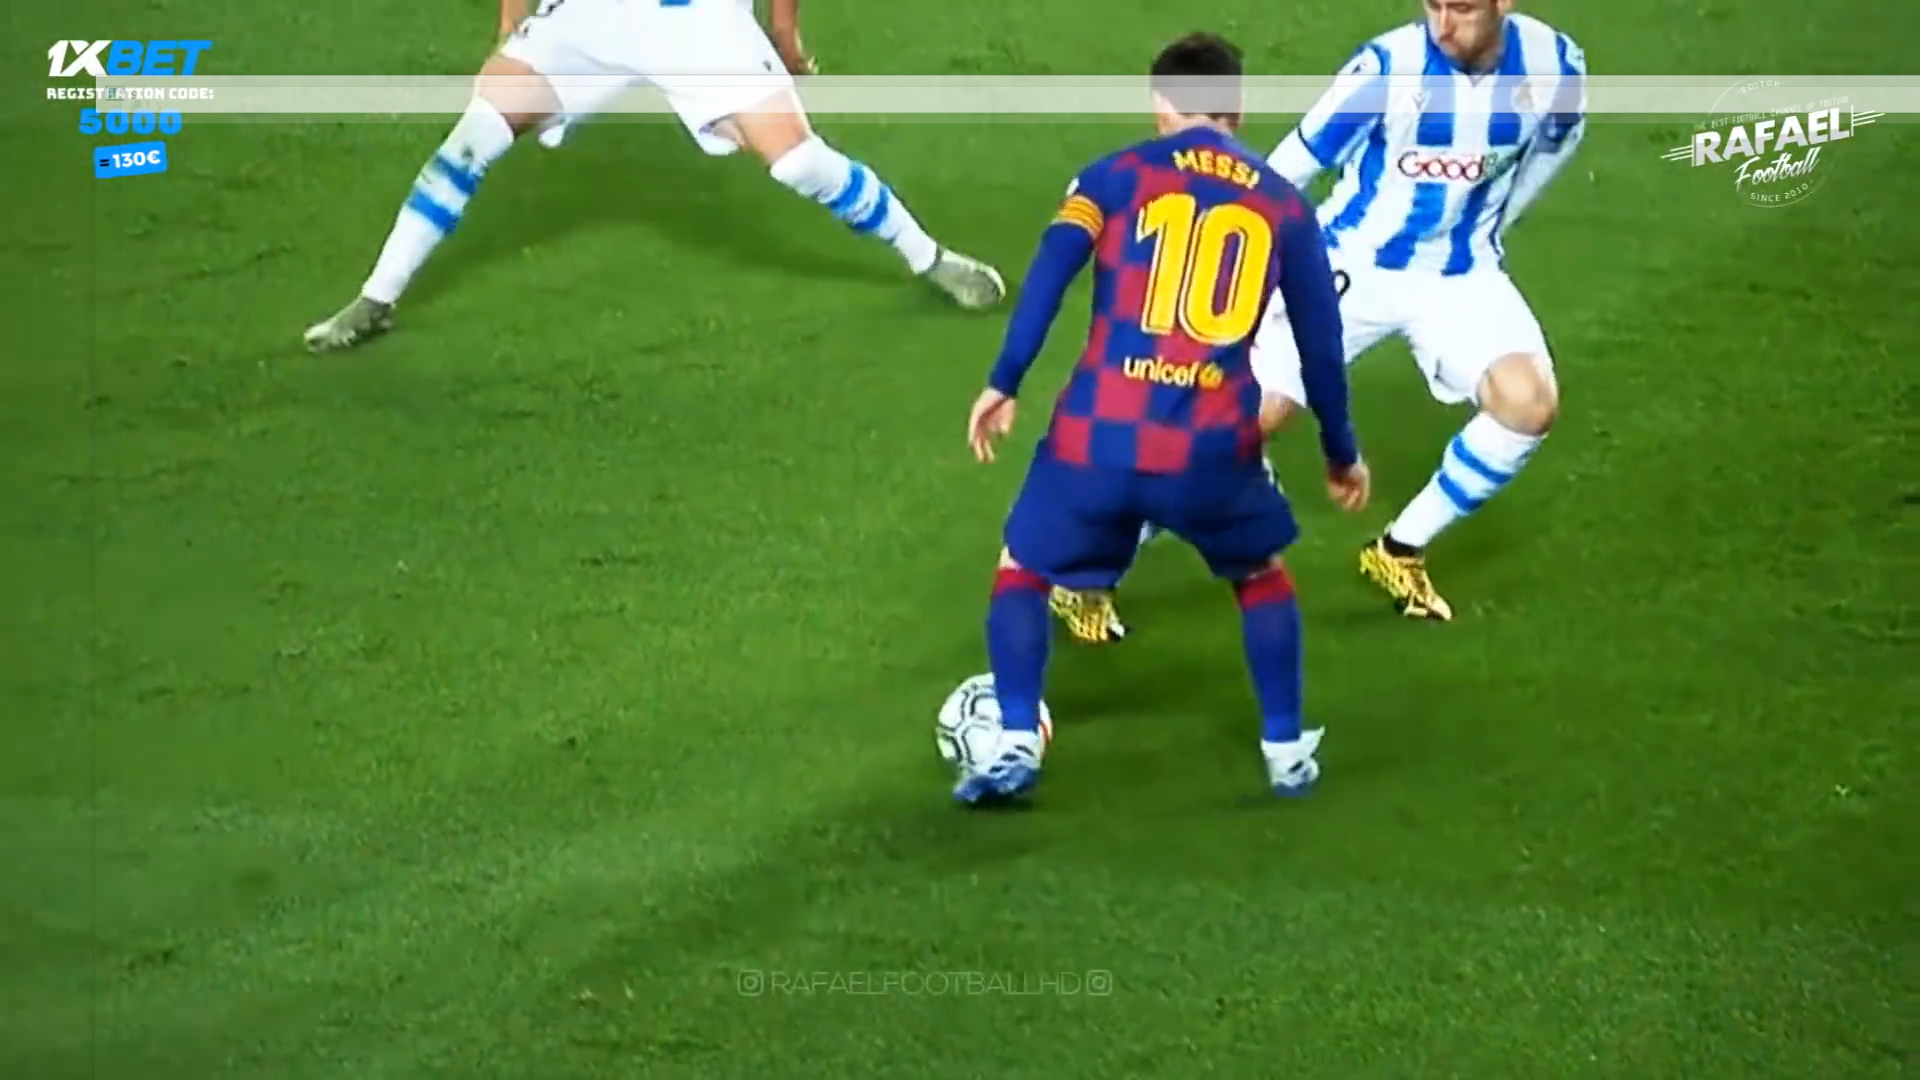ft: (934, 662, 1058, 783)
